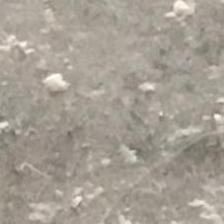Non_Crack: (12, 28, 180, 183)
